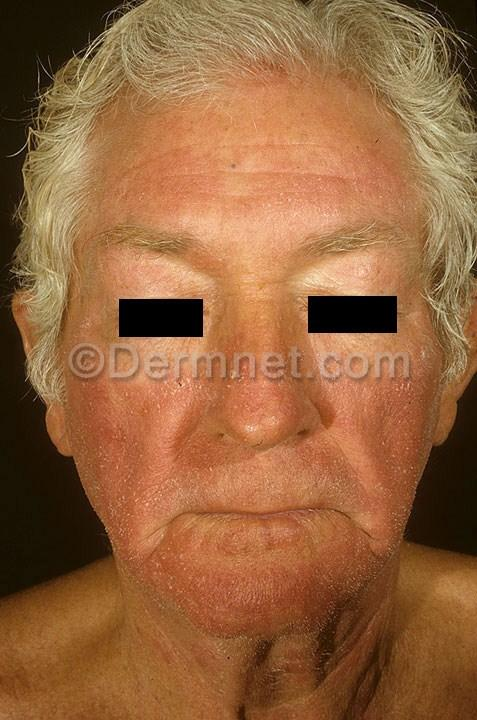Eczema: (63, 339, 190, 458), (355, 338, 447, 460), (73, 452, 177, 546), (250, 546, 367, 626), (145, 534, 249, 623), (162, 443, 265, 510), (243, 446, 349, 502), (351, 454, 413, 539)
